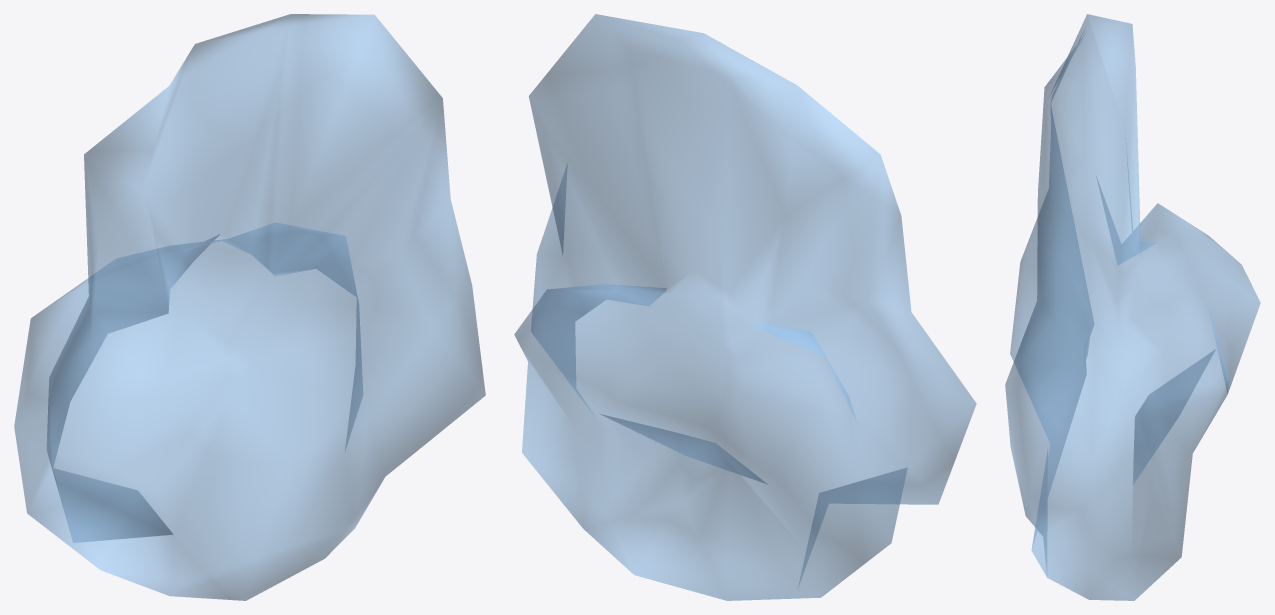
File: mcollector_shield.gltf
The picture shows the model from 3 angles, left to right: view 1: azimuth 30°, elevation 25°; view 2: azimuth 150°, elevation 25°; view 3: azimuth 270°, elevation 25°; orthographic projection. The views are drawn at different scales.
Parts seen in each view (by area): view 1: mcollector.shield; view 2: mcollector.shield; view 3: mcollector.shield.
Boxes of the visible parts, x1=… form: mcollector.shield: x1=14, y1=14, x2=485, y2=600; mcollector.shield: x1=514, y1=14, x2=976, y2=600; mcollector.shield: x1=1005, y1=14, x2=1260, y2=600.
Size of the model in its own units: 33.32 by 39.72 by 16.66.
